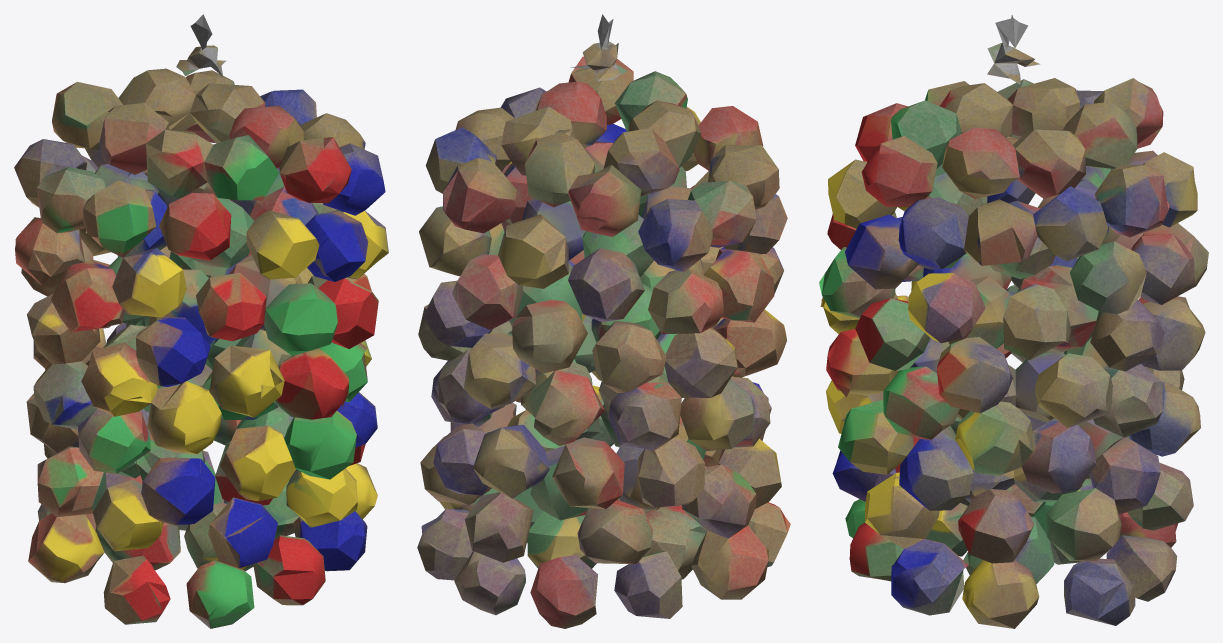
File: ball_bag.glb
3 renders of one model, left to right at view 1: azimuth 30°, elevation 25°; view 2: azimuth 150°, elevation 25°; view 3: azimuth 270°, elevation 25°, orthographic.
Bounding box in the file's own units: 1.07 × 1.74 × 1.09.
1 material, 1 textured.
